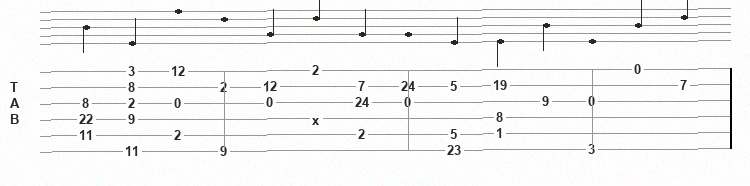0: (174, 95, 185, 109), (266, 95, 277, 109), (404, 95, 415, 109), (588, 95, 599, 109), (634, 63, 645, 77)
1: (496, 127, 507, 141)
11: (79, 127, 97, 141), (125, 143, 143, 157)
12: (171, 63, 189, 77), (263, 79, 281, 93)
19: (493, 79, 511, 93)
2: (128, 95, 139, 109), (174, 127, 185, 141), (220, 79, 231, 93), (312, 63, 323, 77), (358, 127, 369, 141)
22: (79, 111, 97, 125)
23: (447, 143, 465, 157)
24: (355, 95, 373, 109), (401, 79, 419, 93)
3: (128, 63, 139, 77), (588, 143, 599, 157)
5: (450, 79, 461, 93), (450, 127, 461, 141)
7: (358, 79, 369, 93), (680, 79, 691, 93)
8: (82, 95, 93, 109), (128, 79, 139, 93), (496, 111, 507, 125)
9: (128, 111, 139, 125), (220, 143, 231, 157), (542, 95, 553, 109)
x: (312, 113, 324, 124)
